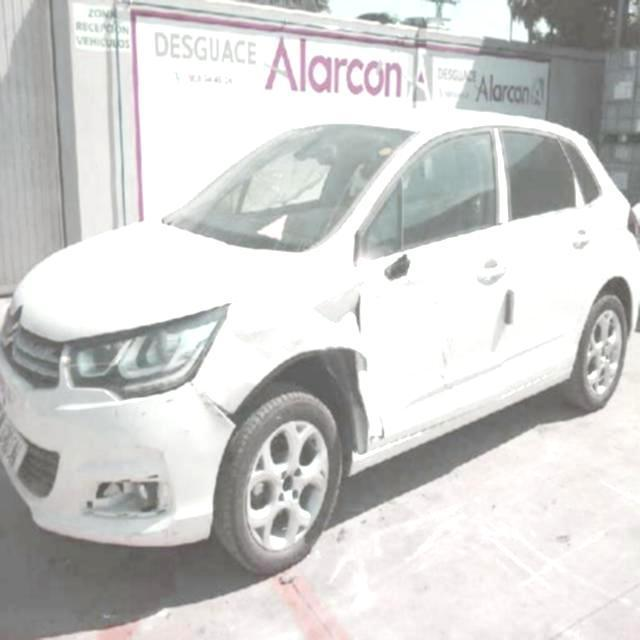minor: (154, 217, 392, 473)
